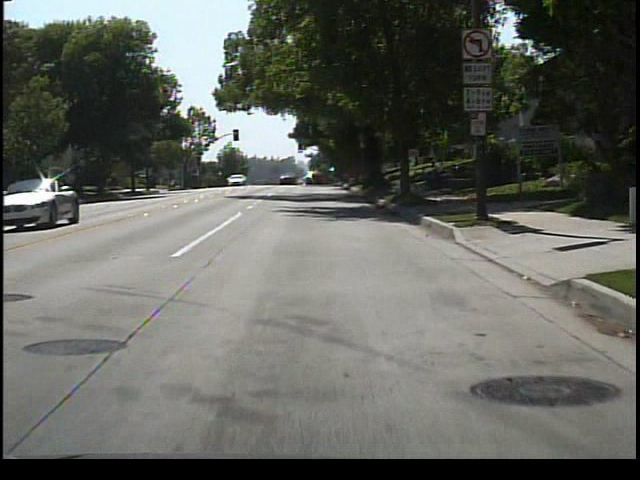person: (425, 154, 446, 191)
